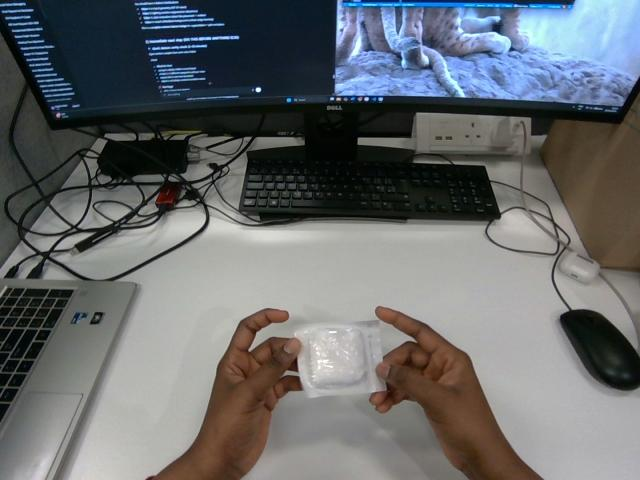gauze: (294, 321, 385, 397)
